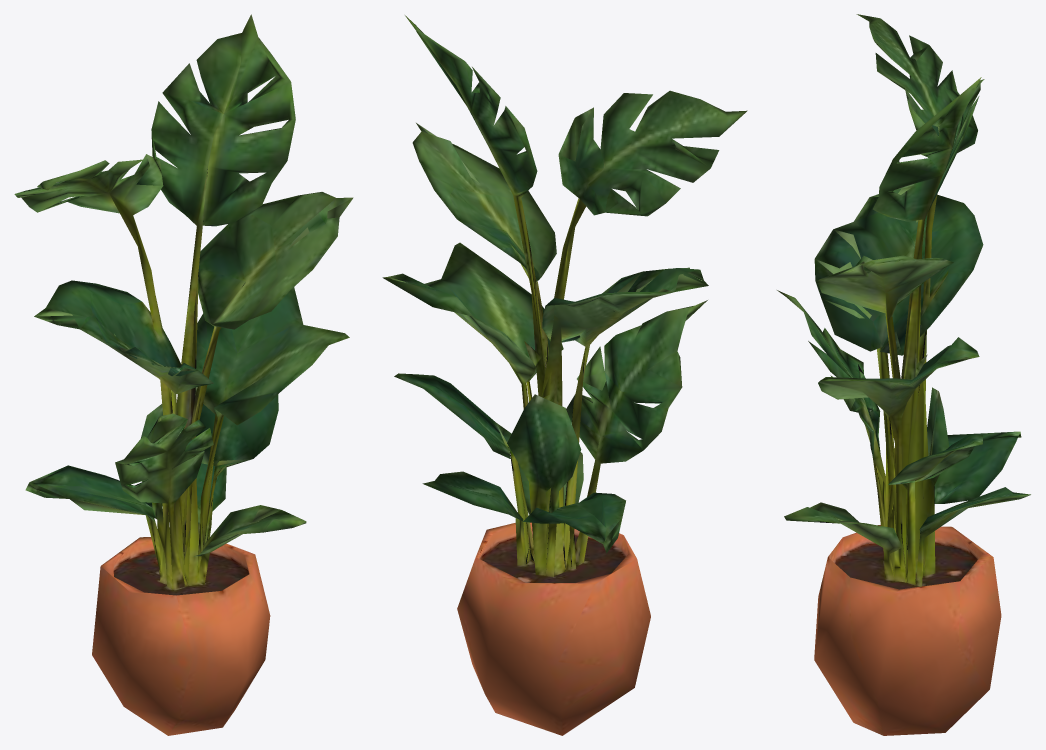
Rendered from plant.glb.
3 views of the same model, side by side, from view 1: azimuth 30°, elevation 25°; view 2: azimuth 150°, elevation 25°; view 3: azimuth 270°, elevation 25° (orthographic). The views are drawn at different scales.
Parts seen in each view (by area): view 1: cafe_plant; view 2: cafe_plant; view 3: cafe_plant.
Boxes of the visible parts, x1,y1,x2,y2 form: cafe_plant: (14,14,353,735); cafe_plant: (382,15,747,735); cafe_plant: (777,14,1030,735).
Size of the model in its own units: 0.5958 by 1.2 by 0.4015.
1 material, 1 textured.
